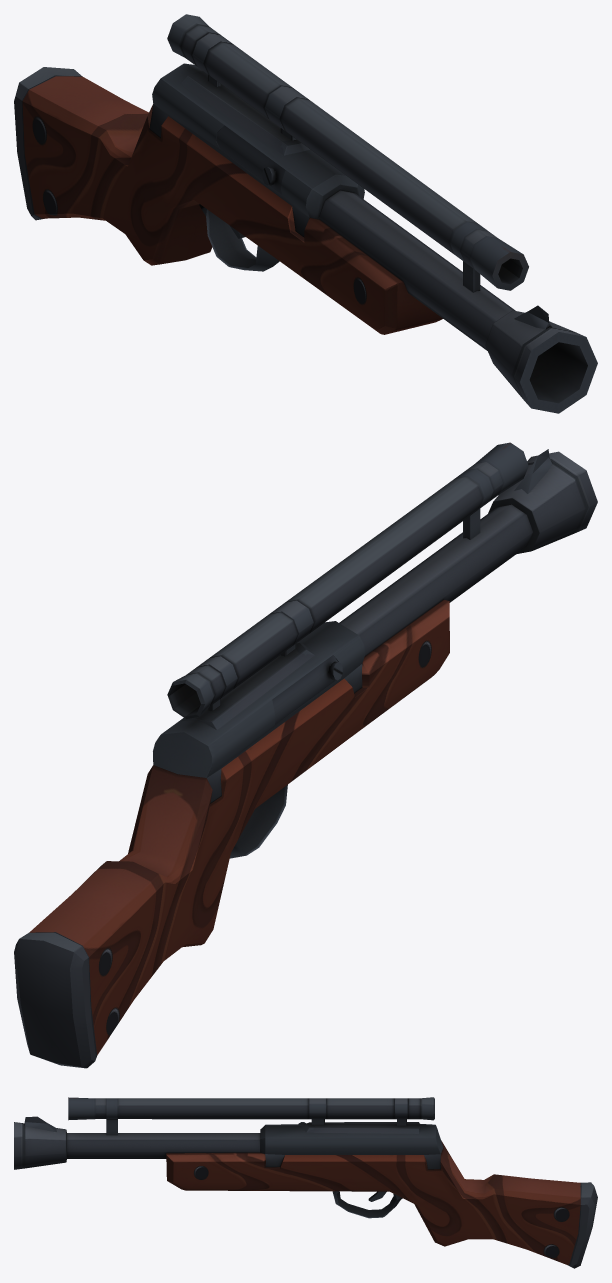
The model's file is gun_d03.fbx.
The picture shows the model from 3 angles, top to bottom: view 1: azimuth 30°, elevation 25°; view 2: azimuth 150°, elevation 25°; view 3: azimuth 270°, elevation 25°; orthographic projection. The views are drawn at different scales.
Parts seen in each view (by area): view 1: gun_d03; view 2: gun_d03; view 3: gun_d03.
Part boxes in pixels (x1,y1,x2,y2): gun_d03: (14,14,597,413); gun_d03: (14,442,597,1068); gun_d03: (14,1097,597,1268).
Bounding box in the file's own units: 12.15 × 43.6 × 139.
